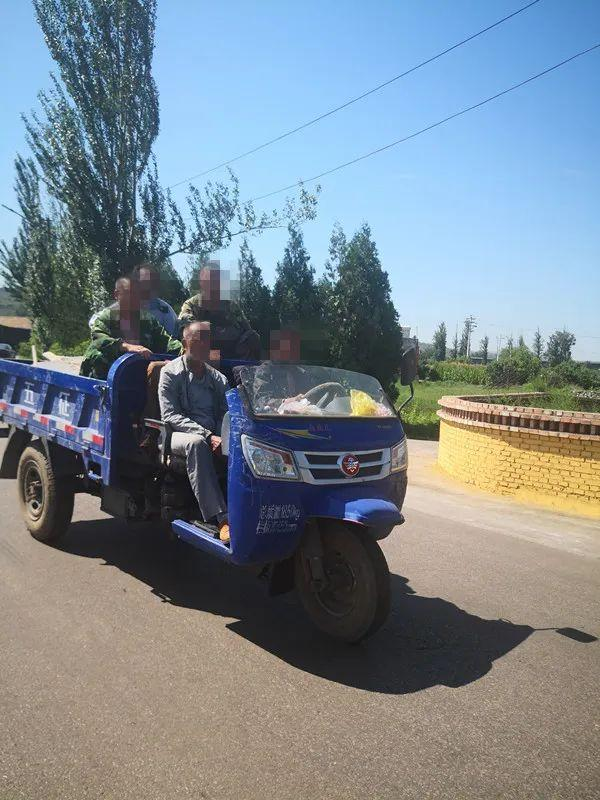driver: (259, 313, 298, 416)
overloading: (1, 185, 459, 630)
passenger: (144, 316, 240, 517), (56, 251, 151, 370), (170, 241, 248, 364), (118, 240, 182, 343)
